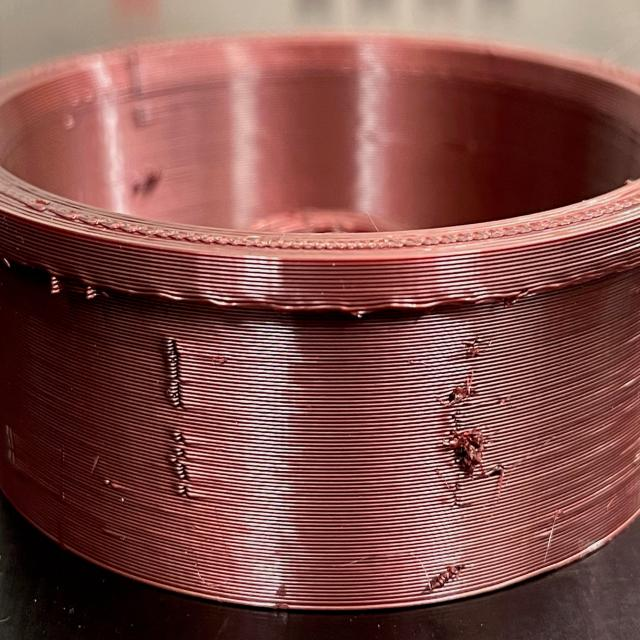cracks: (150, 346, 206, 508)
